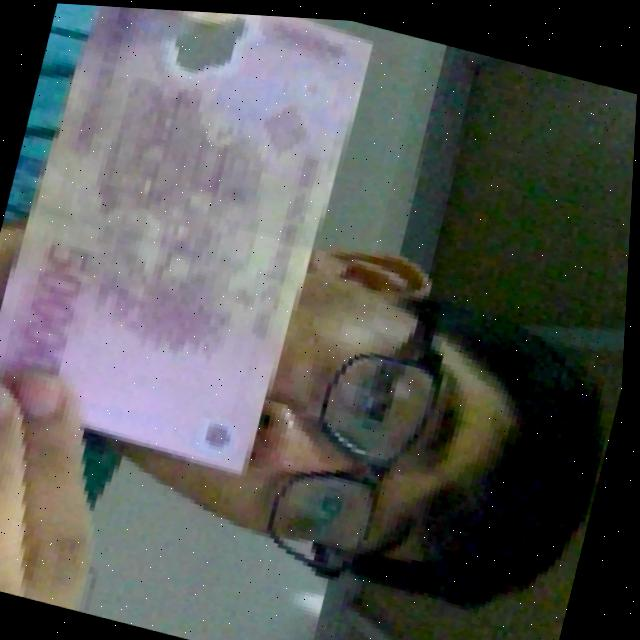50 000 VND: (0, 0, 385, 487)
